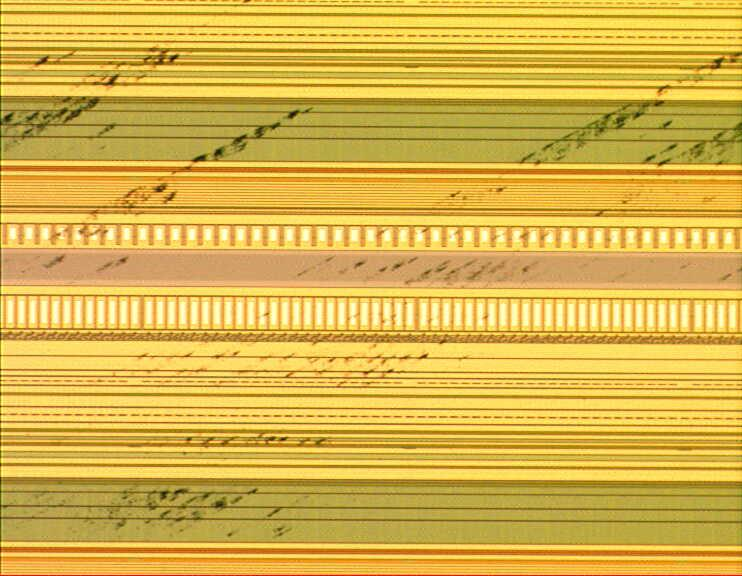SCRATCH: (1, 1, 742, 557)
